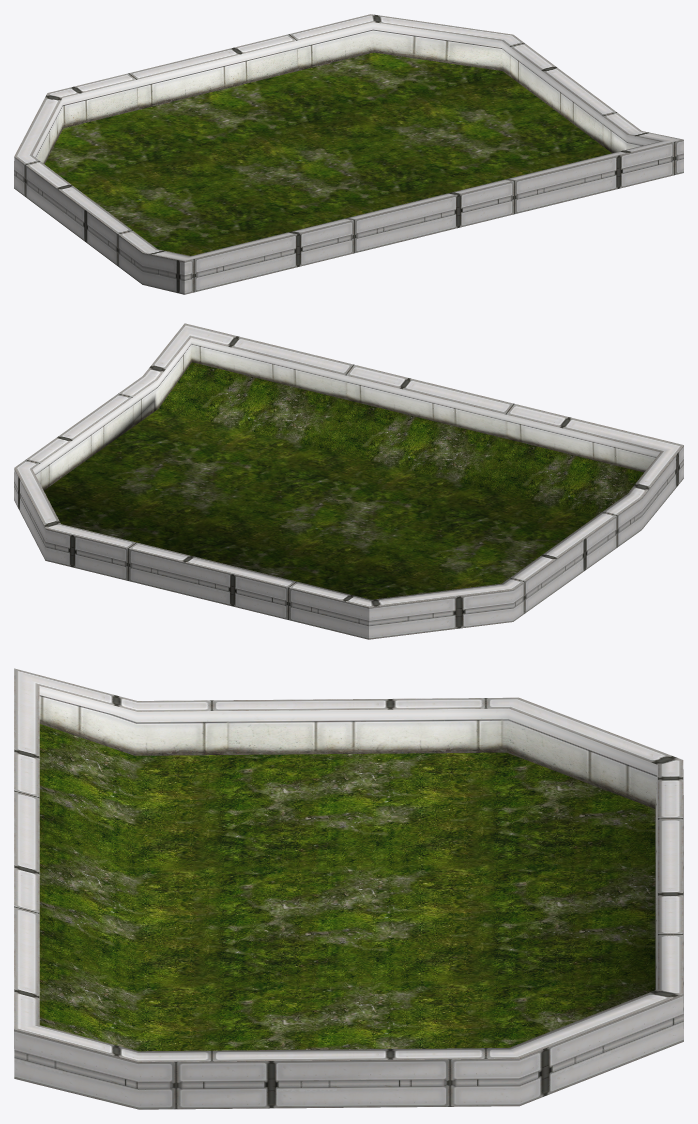
The model's file is STA20_MainPlanterA1.FBX.
3 renders of one model, top to bottom at view 1: azimuth 30°, elevation 25°; view 2: azimuth 150°, elevation 25°; view 3: azimuth 270°, elevation 25°, orthographic. The views are drawn at different scales.
Visible parts, largest first — view 1: STA20_MainPlanterA1; view 2: STA20_MainPlanterA1; view 3: STA20_MainPlanterA1.
Part boxes in pixels (x1,y1,x2,y2): STA20_MainPlanterA1: (14, 14, 683, 294); STA20_MainPlanterA1: (14, 323, 683, 639); STA20_MainPlanterA1: (14, 668, 683, 1109).
Bounding box in the file's own units: 15.59 × 1.62 × 12.23.
